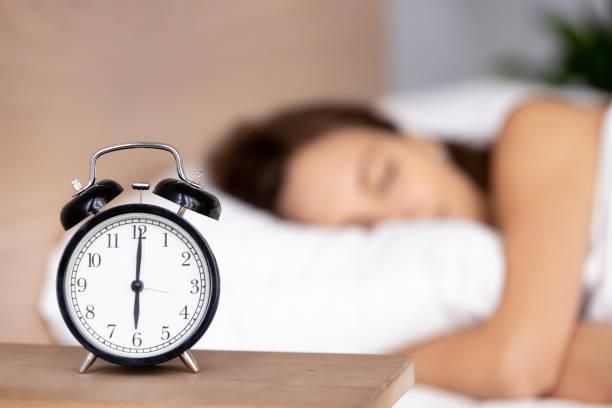clock: (48, 124, 234, 384)
